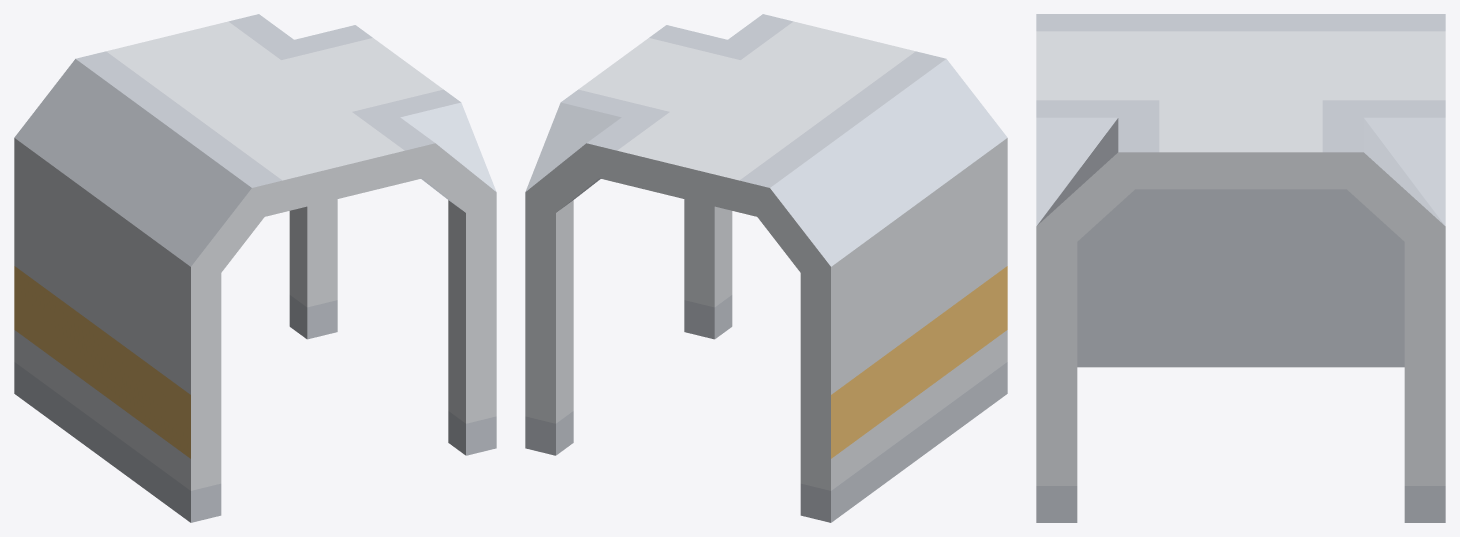
Rendered from corridor_split.glb.
3 views of the same model, side by side, from view 1: azimuth 30°, elevation 25°; view 2: azimuth 150°, elevation 25°; view 3: azimuth 270°, elevation 25° (orthographic). The views are drawn at different scales.
Parts seen in each view (by area): view 1: corridor_split; view 2: corridor_split; view 3: corridor_split.
Boxes of the visible parts, bbox=[...] form: corridor_split: bbox=[14, 14, 496, 522]; corridor_split: bbox=[525, 14, 1007, 522]; corridor_split: bbox=[1036, 14, 1445, 522].
Bounding box in the file's own units: 1 × 1 × 1.
